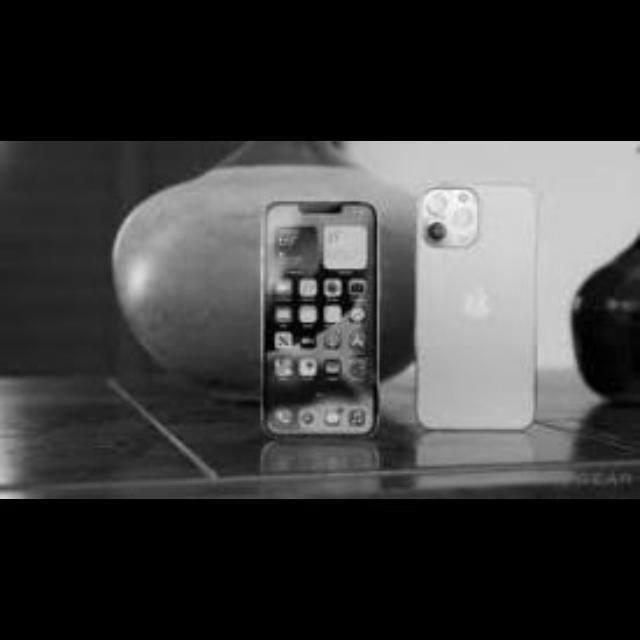fake: (415, 180, 540, 434), (260, 198, 379, 440)
